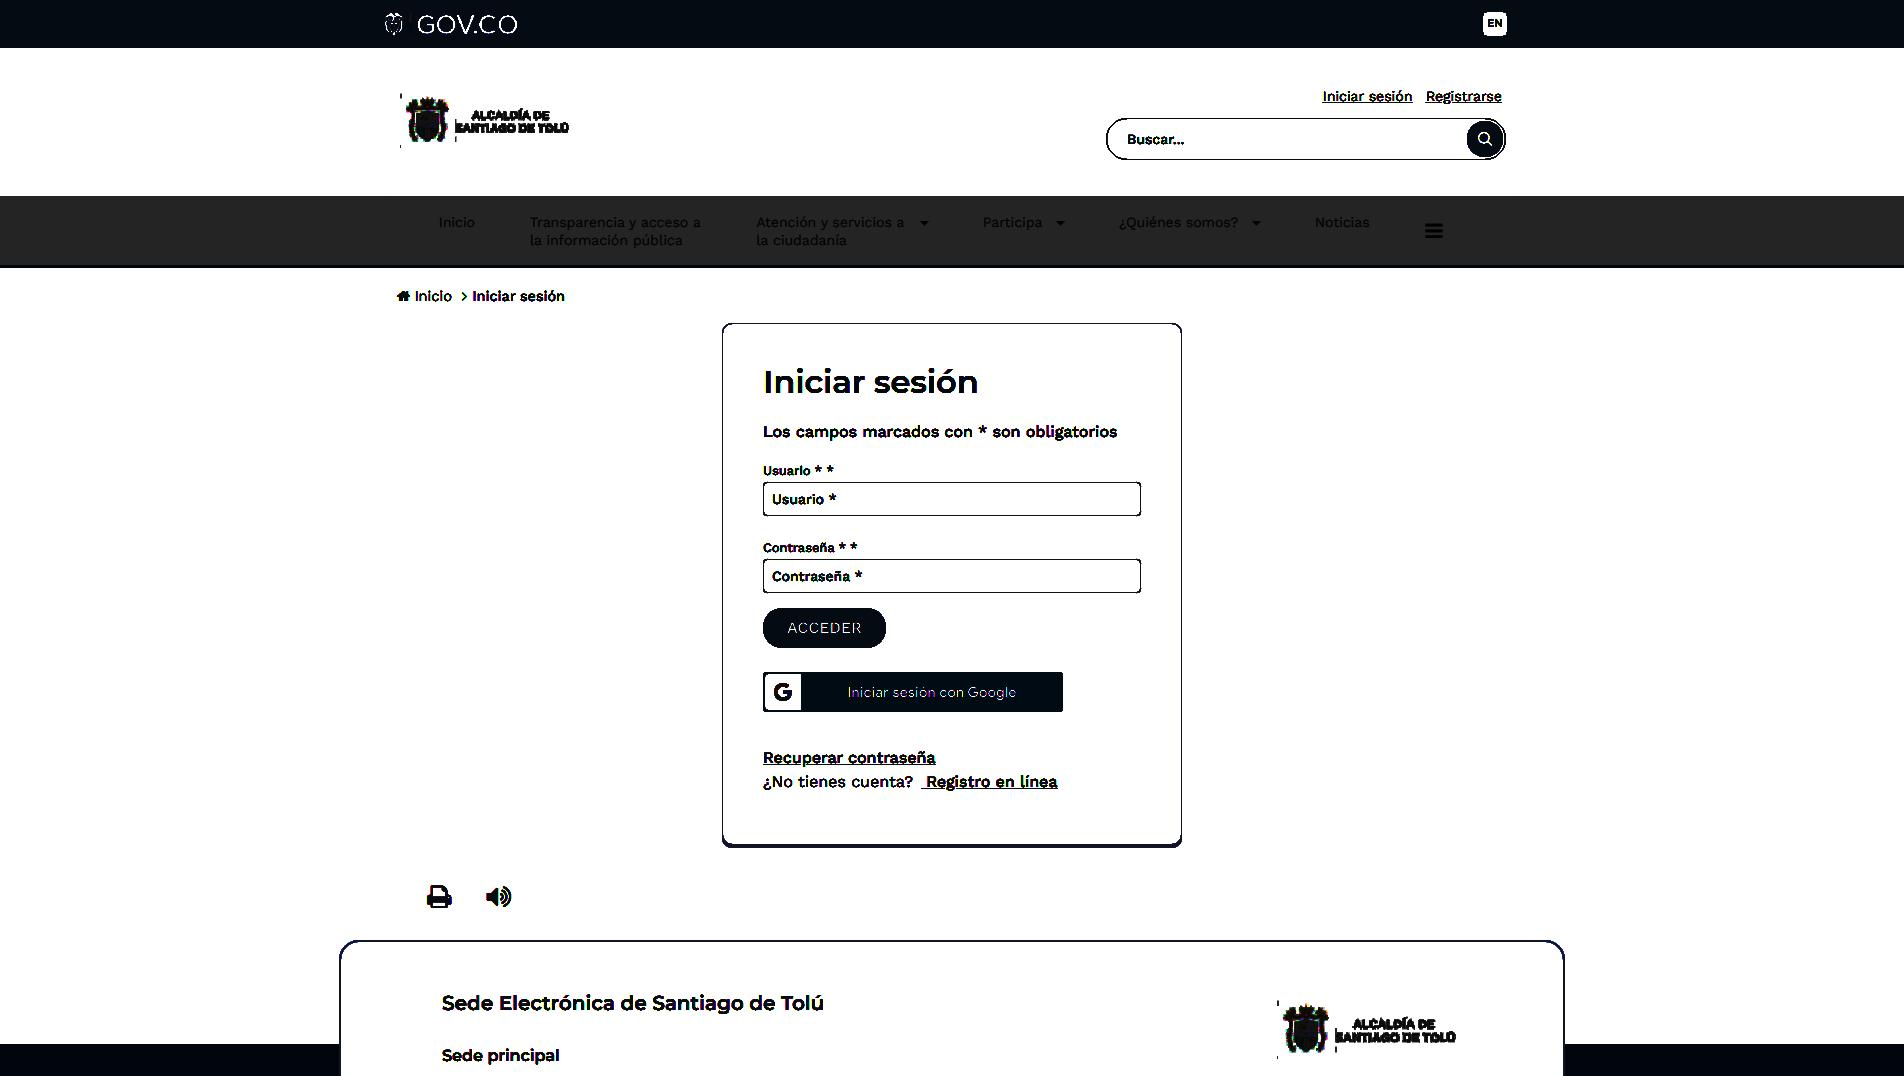barra govco: (377, 0, 1513, 51)
btn atencion ciudadano: (754, 214, 930, 249)
btn buscador: (1104, 115, 1508, 162)
btn idiomas: (1482, 10, 1509, 38)
btn inicio: (437, 215, 476, 230)
btn inicio sesion: (469, 287, 567, 305), (1320, 88, 1413, 105)
btn noticias: (1309, 210, 1377, 231)
btn participa: (981, 214, 1067, 232)
btn quienes somos: (1115, 210, 1264, 238)
btn registro: (925, 772, 1060, 793), (1425, 89, 1504, 105)
btn transpariencia: (527, 211, 703, 251)
footer: (333, 936, 1570, 1076)
logogovco: (381, 7, 519, 43)
menu principal: (431, 191, 1450, 254)
